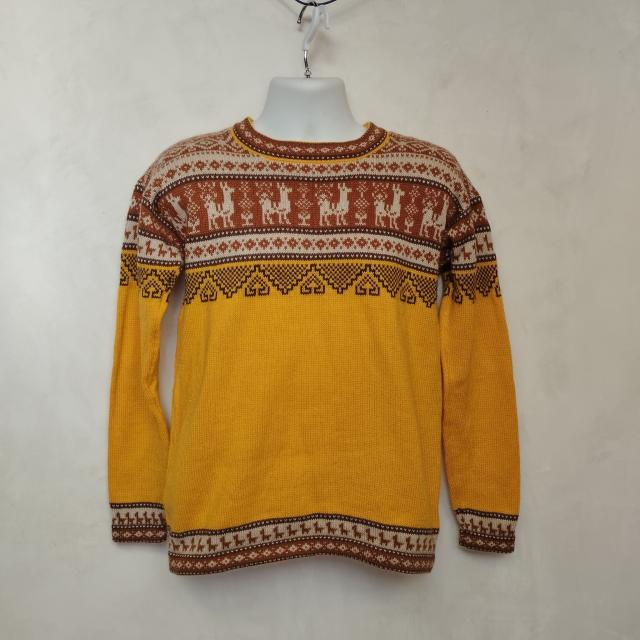Chompa: (108, 106, 522, 576)
